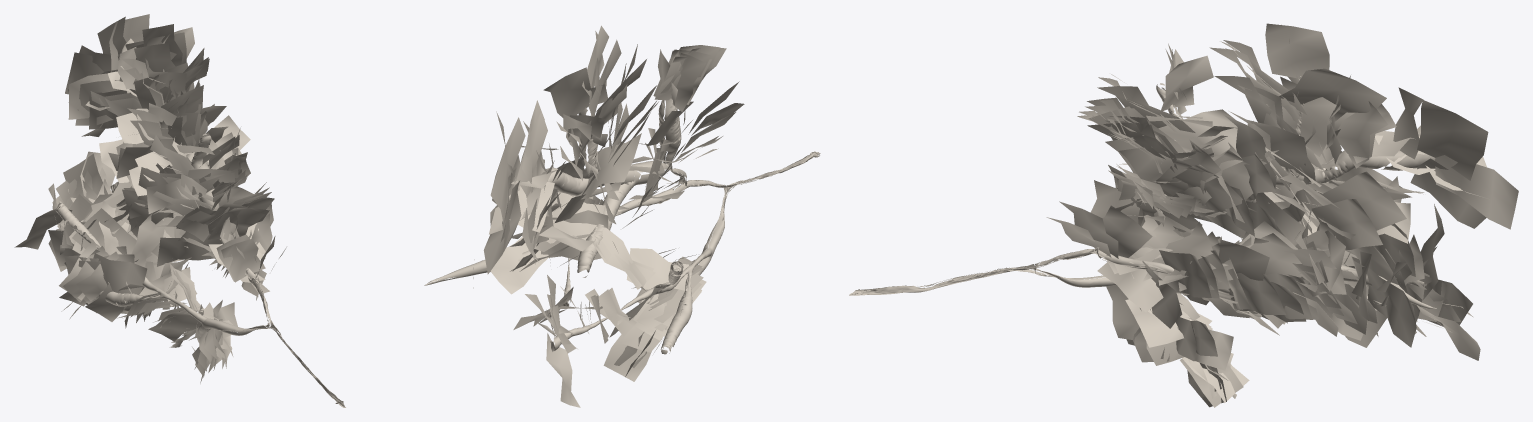
File: tree_cand05.glb
3 renders of one model, left to right at view 1: azimuth 30°, elevation 25°; view 2: azimuth 150°, elevation 25°; view 3: azimuth 270°, elevation 25°, orthographic. The views are drawn at different scales.
Visible parts, largest first — view 1: world; view 2: world; view 3: world.
Part boxes in pixels (x1,y1,x2,y2): world: [14, 14, 345, 407]; world: [424, 25, 820, 407]; world: [849, 23, 1518, 407].
Bounding box in the file's own units: 0.9106 × 1.22 × 1.86.
